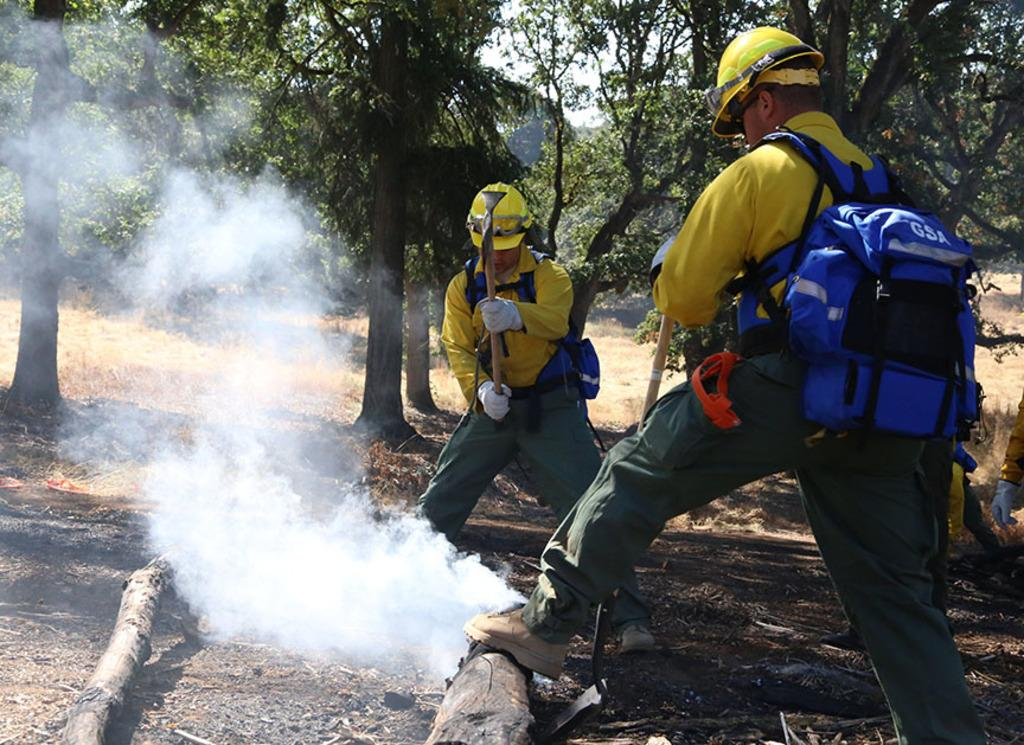helmet: (711, 26, 824, 163), (467, 181, 533, 273)
